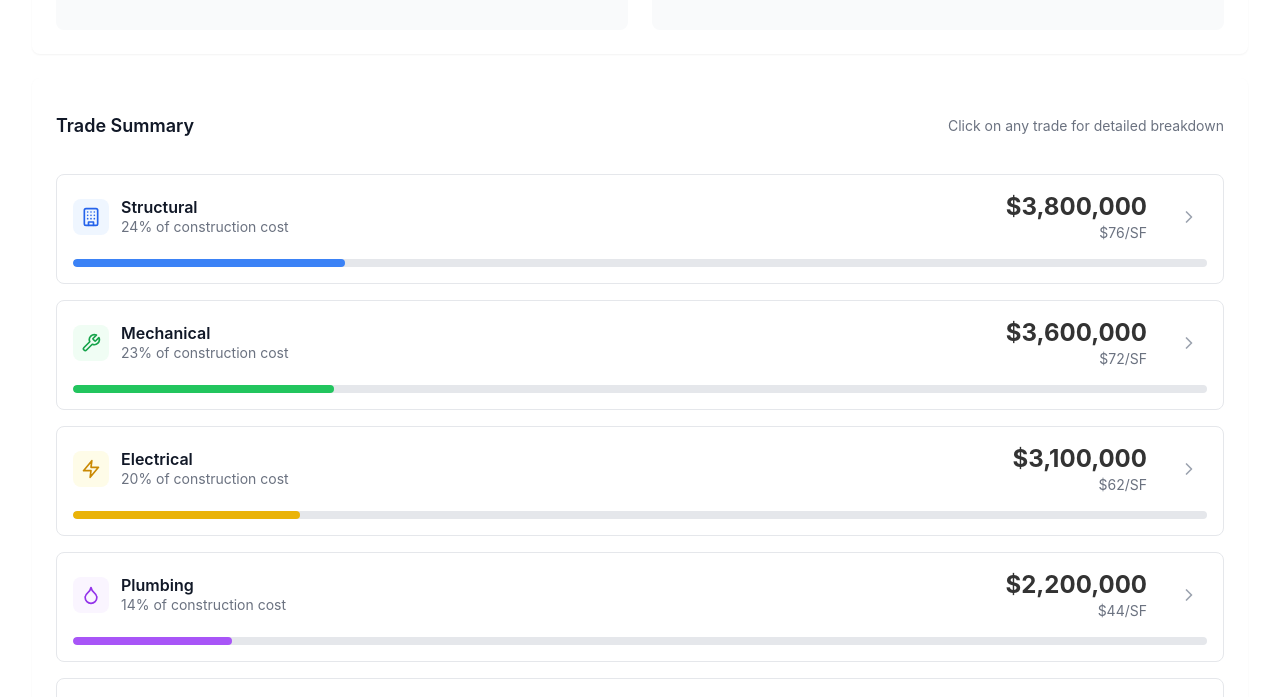
Test: ConstructionView › renders expanded data-center scope detail for dominant mechanical and electrical trades
(page scrolled)
Click the button "Mechanical" at (91, 343), box [57,301,1223,409]
(page scrolled)
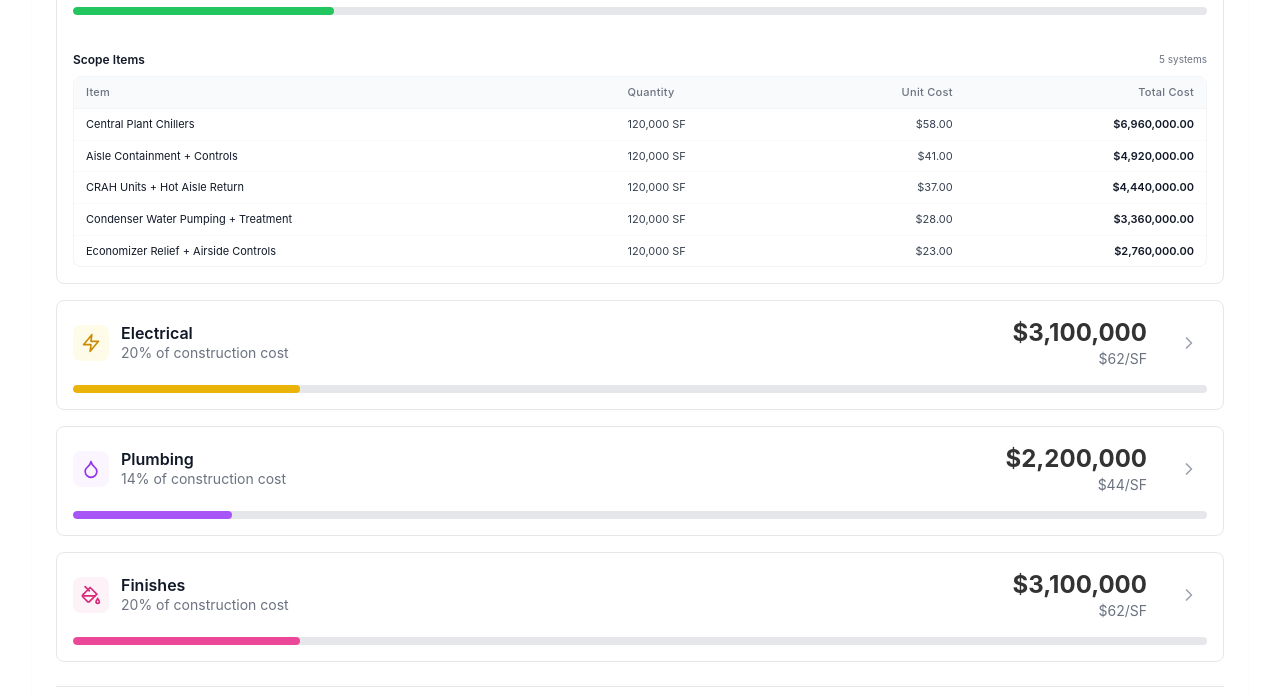
Check: the text "5 systems" is shown, box [1159,51,1207,68]
Check: the text "CRAH Units + Hot Aisle Return" is shown, box [74,172,620,203]
Check: the text "Economizer Relief + Airside Controls" is shown, box [74,235,620,266]
Click the button "Electrical" at (91, 343), box [57,301,1223,409]
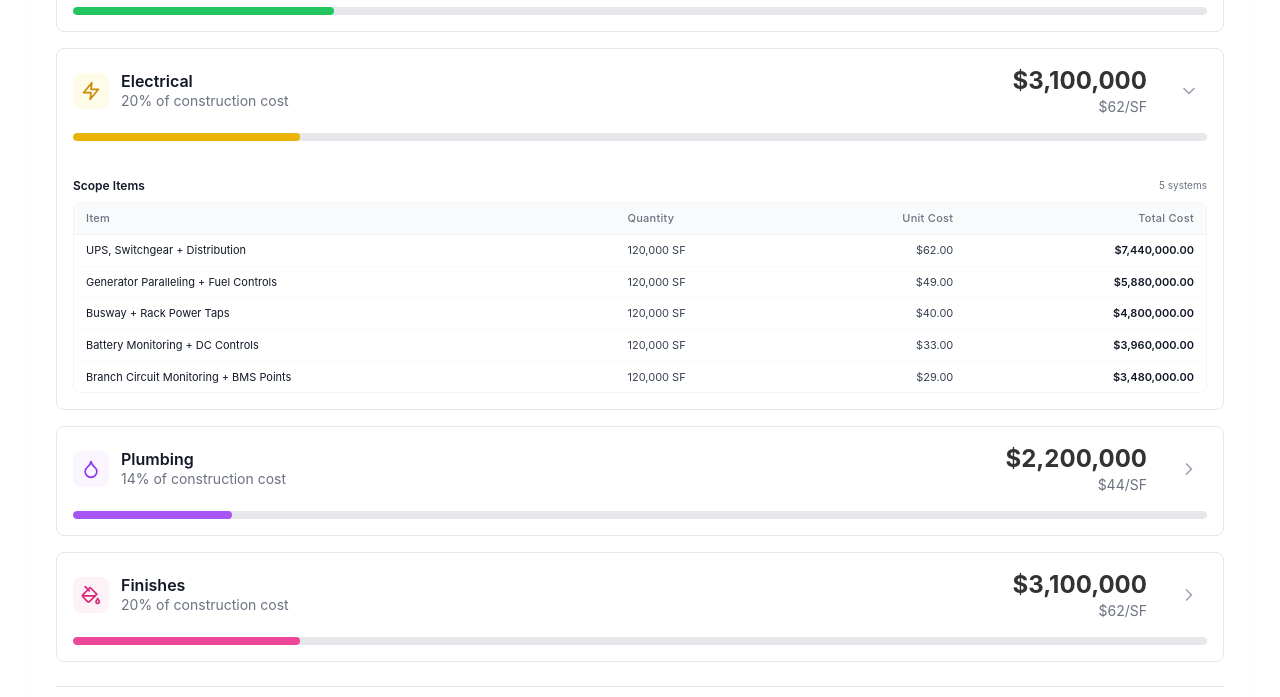
Check: the text "5 systems" is shown, box [1159,177,1207,194]
Check: the text "Busway + Rack Power Taps" is shown, box [74,298,620,329]
Check: the text "Branch Circuit Monitoring + BMS Points" is shown, box [74,361,620,392]
